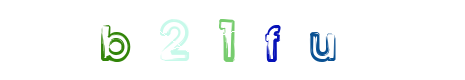1: (179, 0, 259, 80)
2: (162, 0, 242, 80)
B: (75, 0, 155, 80)
F: (193, 0, 273, 80)
U: (258, 0, 338, 80)
